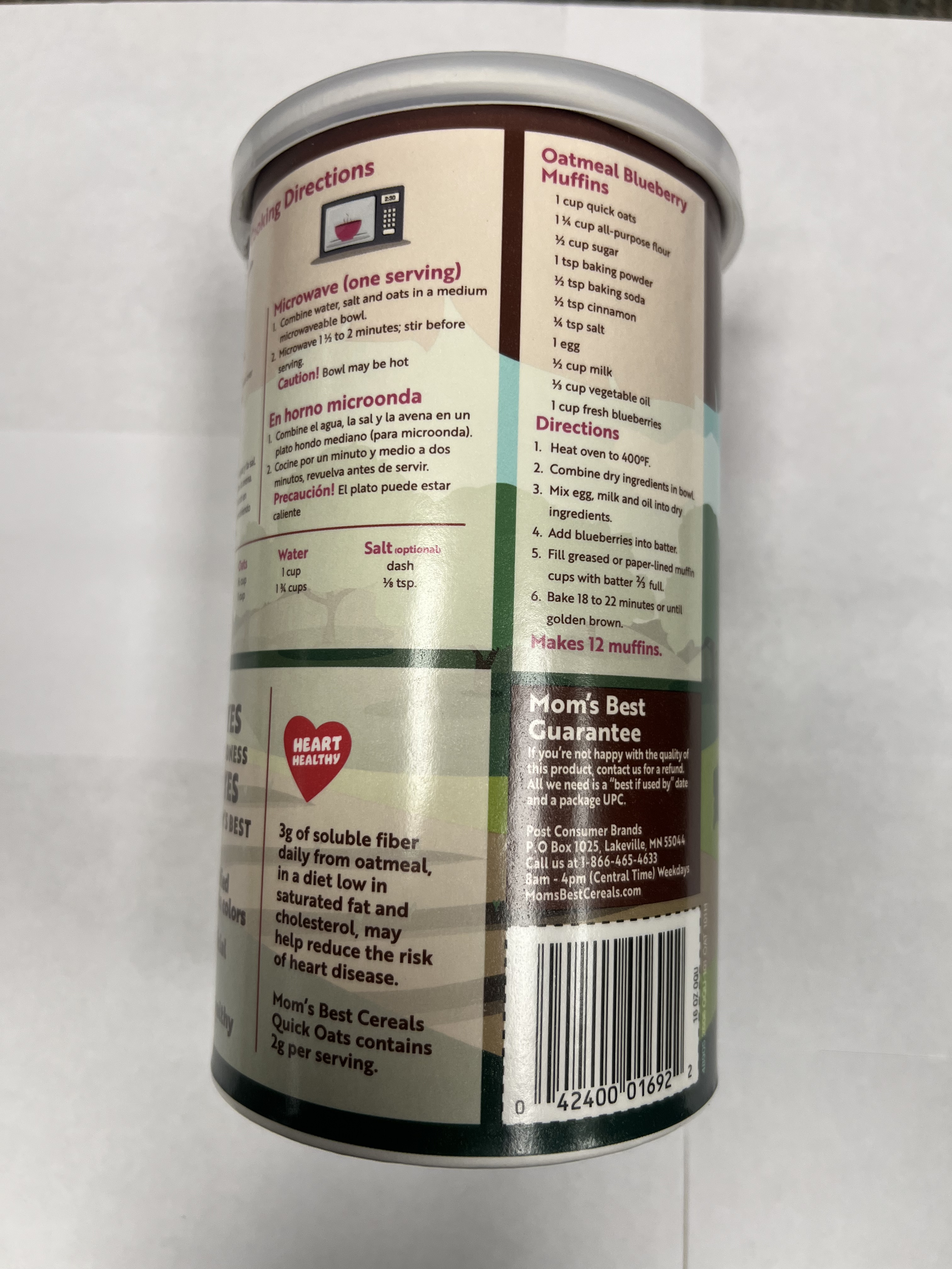packaged: (204, 48, 746, 1175)
